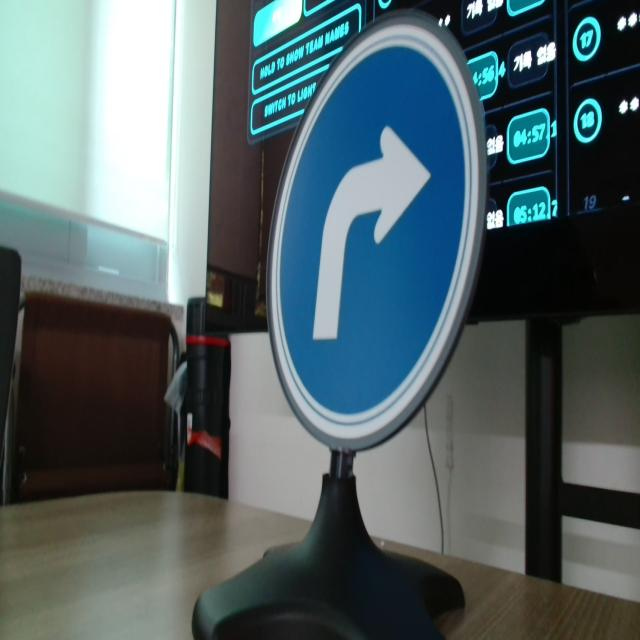right_dierection: (263, 10, 487, 453)
